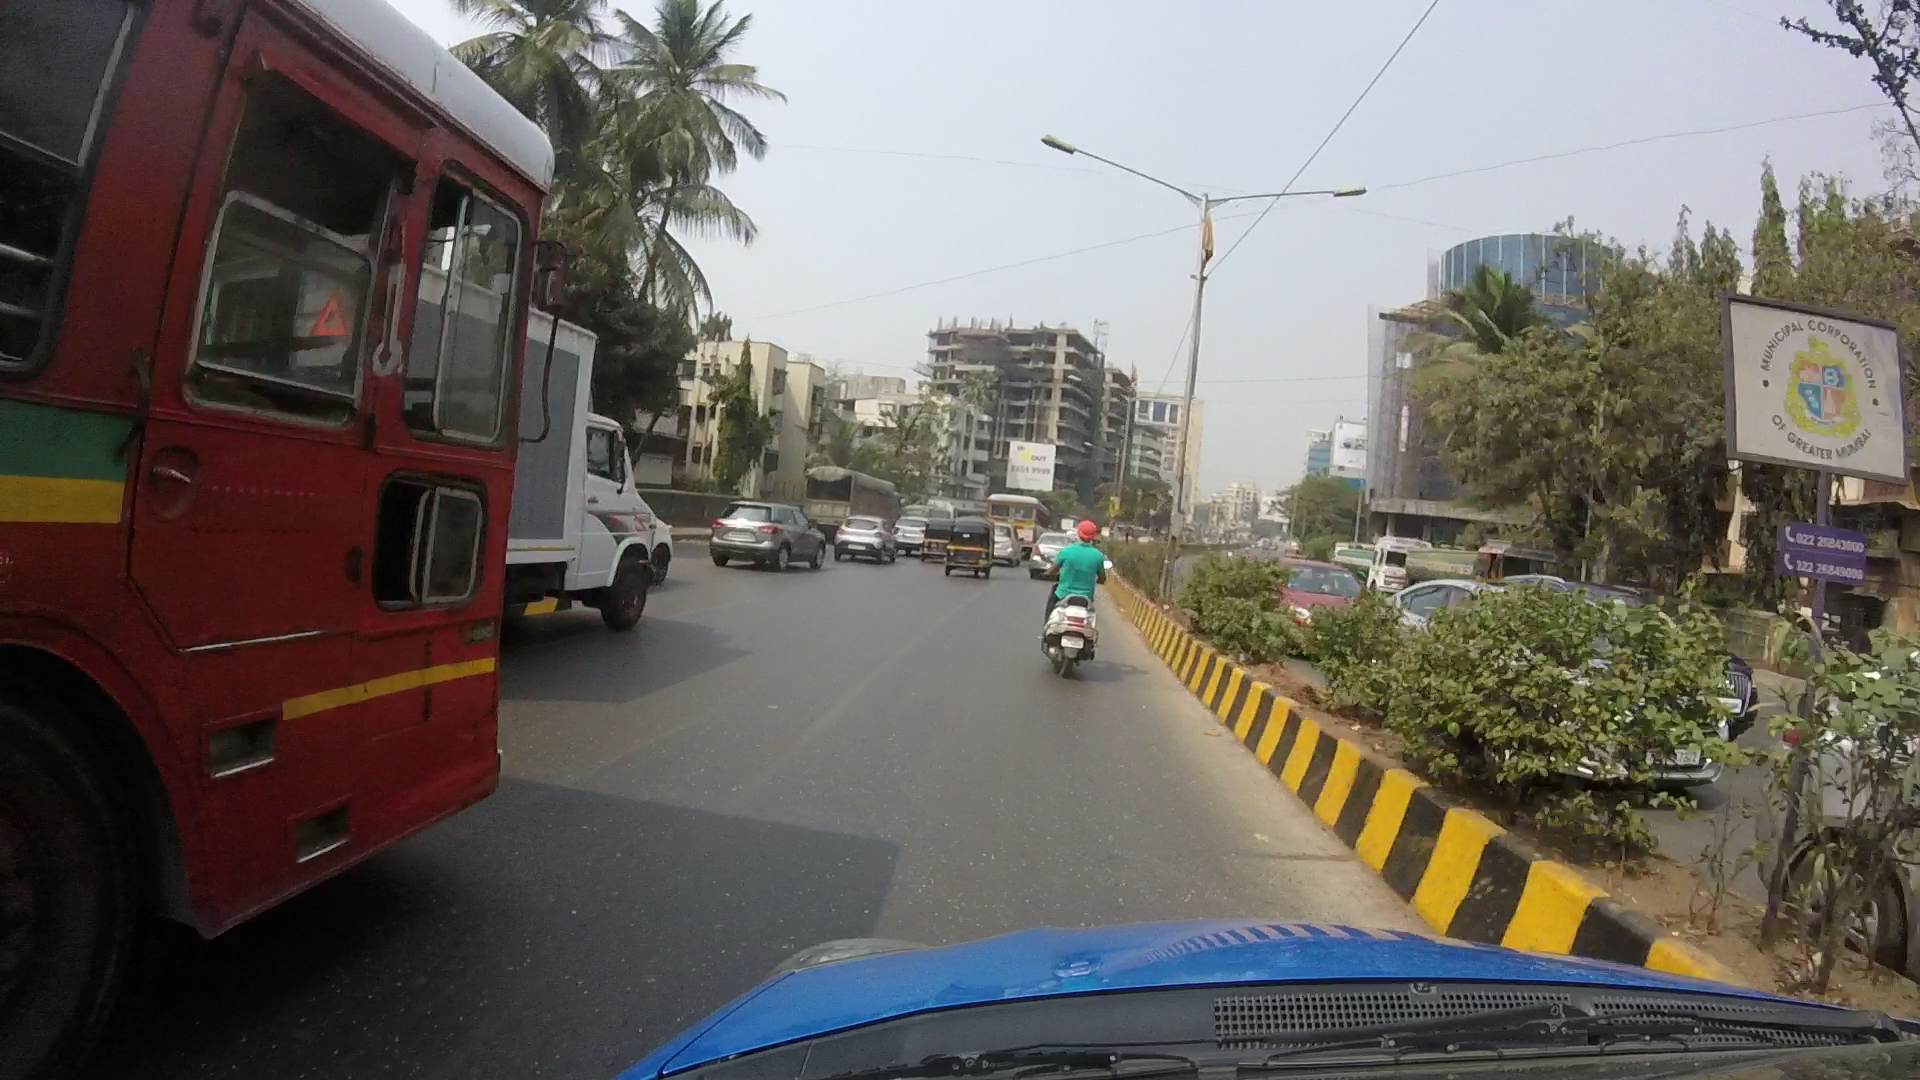bike/scooter: (1029, 520, 1112, 683)
bus: (32, 11, 520, 953)
car: (719, 498, 822, 578)
rickshaw: (943, 513, 996, 572)
truck: (496, 327, 673, 613)
